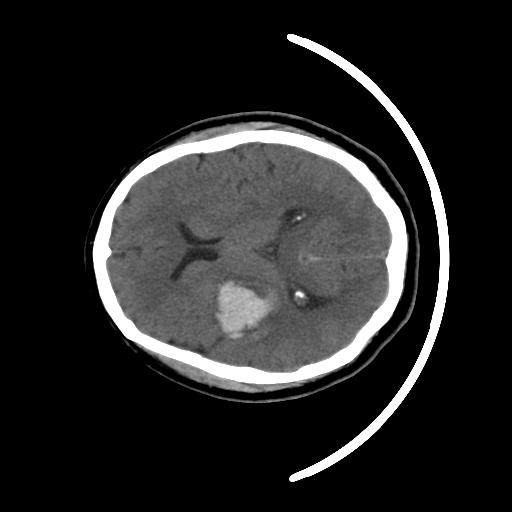a: (199, 262, 290, 352)
